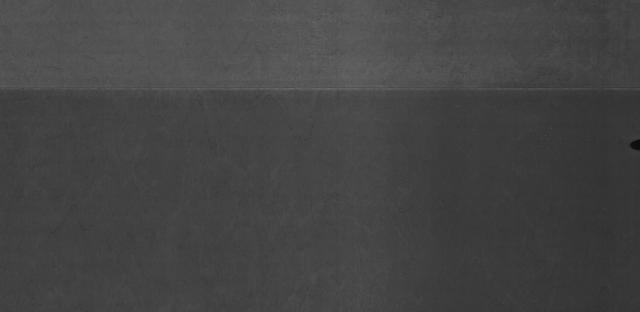punching_hole: (628, 134, 640, 152)
welding_line: (0, 83, 640, 101)
